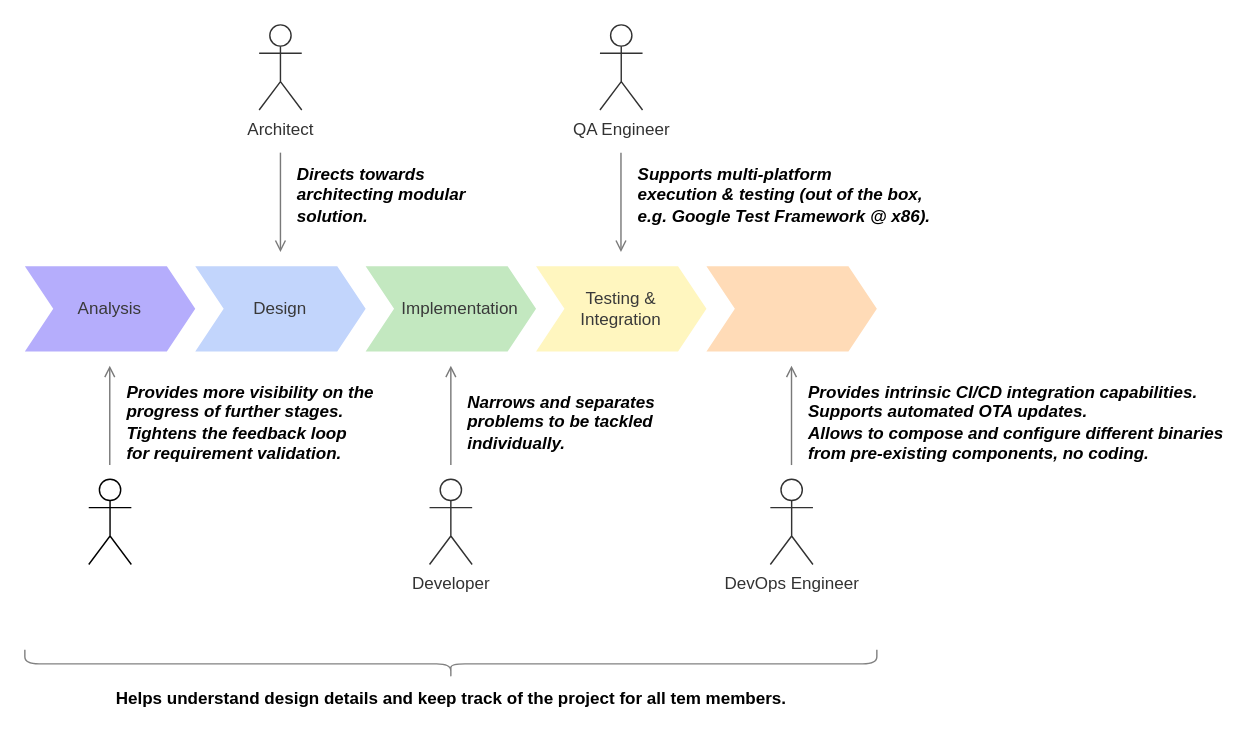
This 1250x746 diagram has some shape labels left out. Here are the shapes that lost their labels. From the top down, the centre of each, then its label:
At (791,308): "Maintenance".
At (109,521): "Business & Management".
